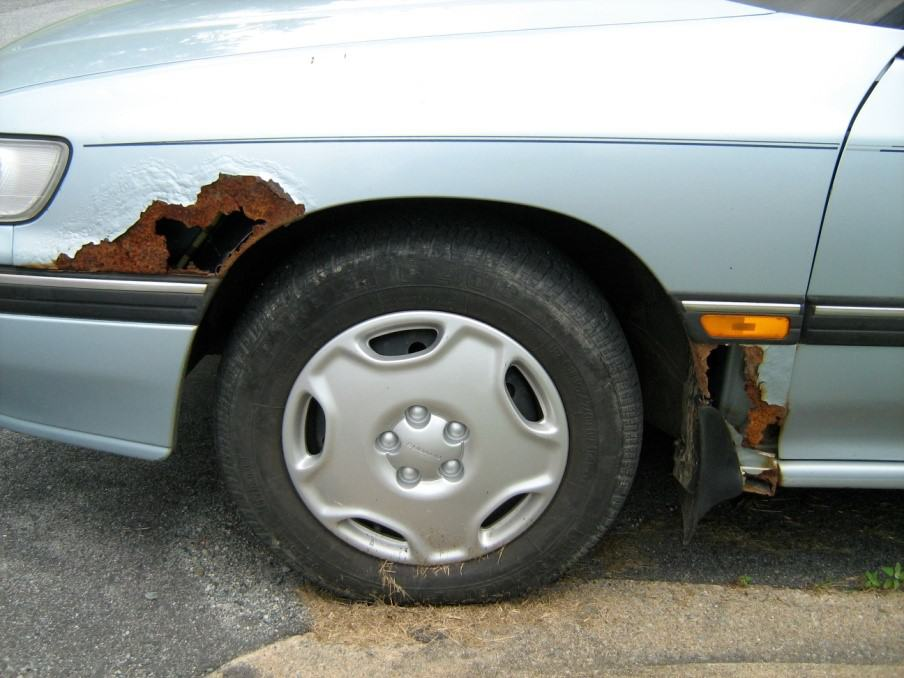rust: (50, 175, 314, 275), (681, 337, 789, 461)
